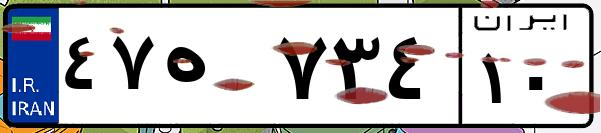0: (525, 38, 570, 115)
1: (475, 38, 525, 113)
3: (330, 28, 385, 110)
4: (385, 28, 445, 110), (57, 26, 110, 100)
7: (270, 28, 330, 110), (110, 28, 158, 98)
ه: (158, 20, 270, 120)
